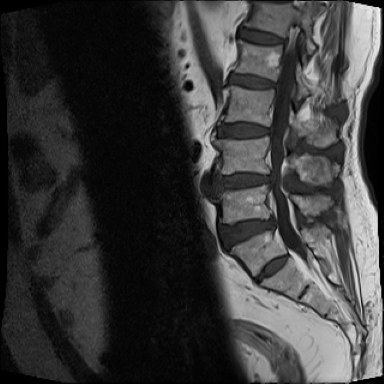Lumbar Disc Bulge (LDB): (213, 210, 284, 256), (210, 163, 278, 198), (224, 69, 284, 95), (215, 119, 276, 142)
Normal IVD: (250, 249, 295, 286)
Spinal Stenosis (SS): (266, 73, 285, 97), (263, 167, 279, 192), (278, 33, 294, 52), (267, 215, 281, 233)
Thoracic Disc Bulge (TDB): (229, 24, 292, 51)
